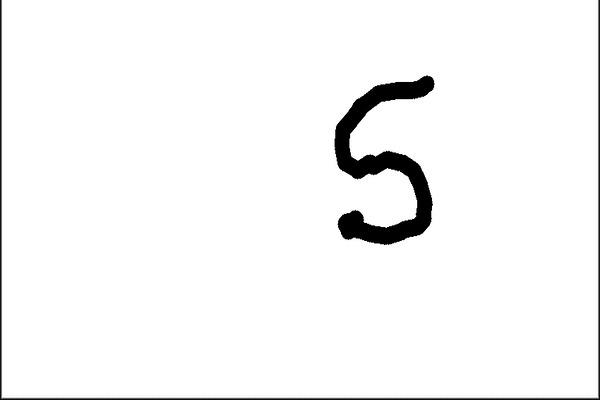S: (315, 69, 450, 252)
